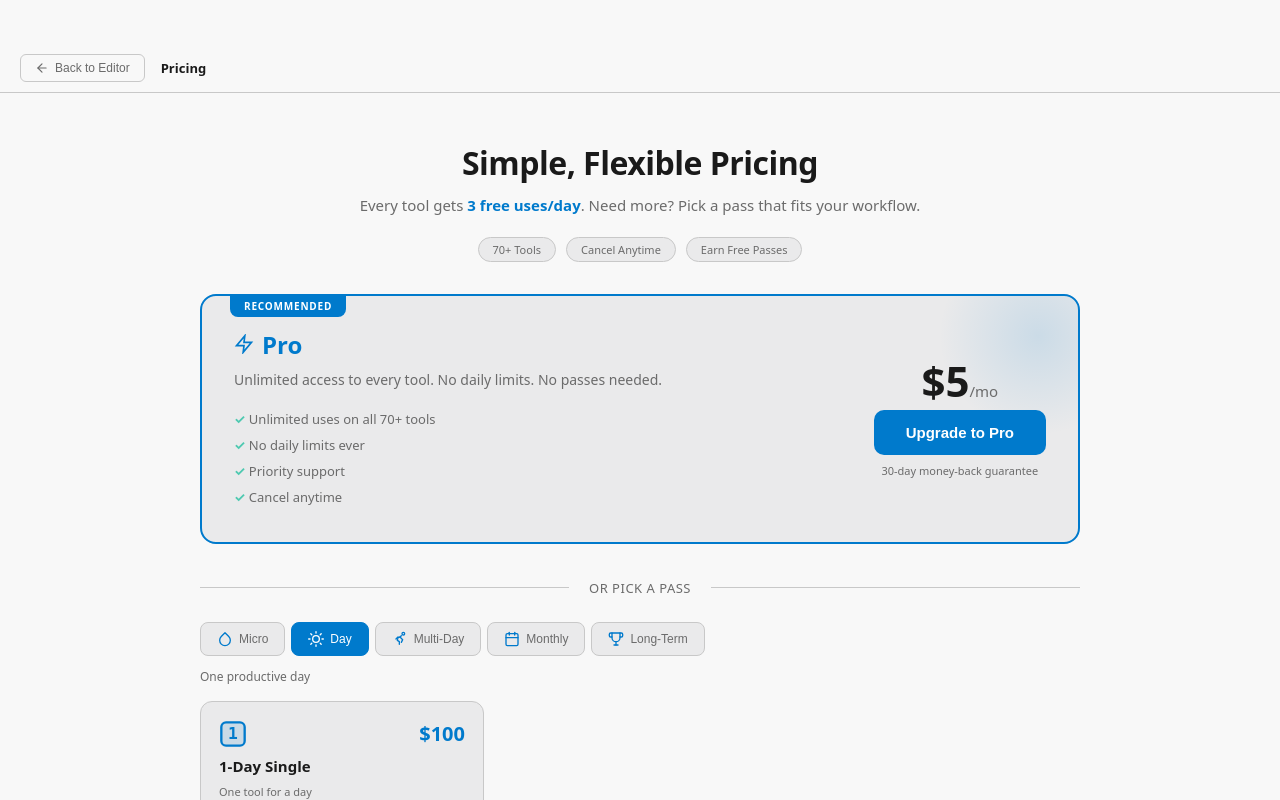
it: PricingPage › switches to Micro tab
Click the button "Micro". click: {"x": 243, "y": 638}
box: 200,622 -> 285,656
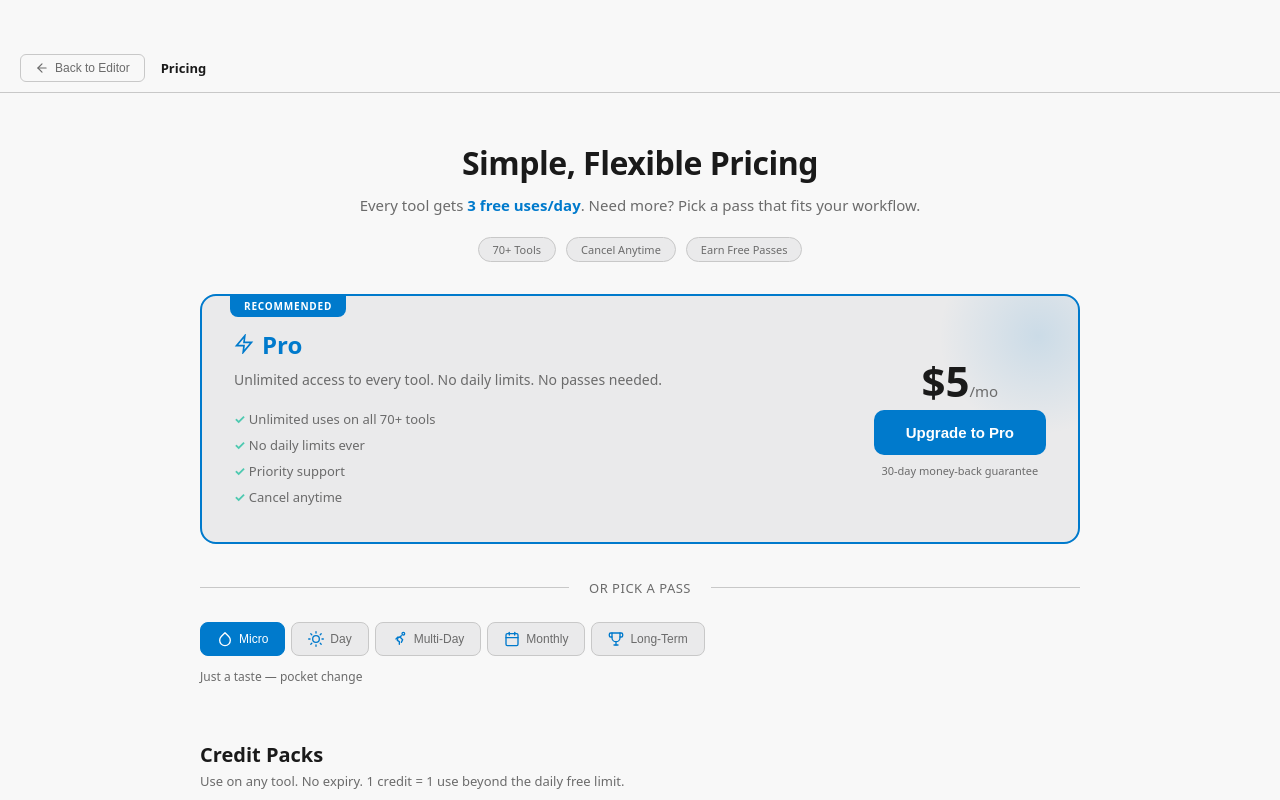
Result: the text "Just a taste — pocket change" is shown at 200,668 -> 362,684
